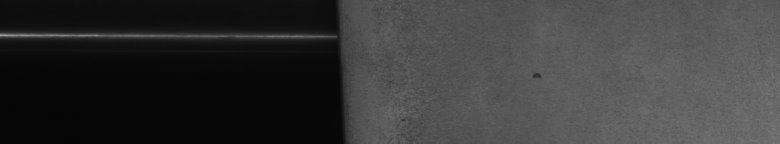fi: (532, 72, 542, 80)
